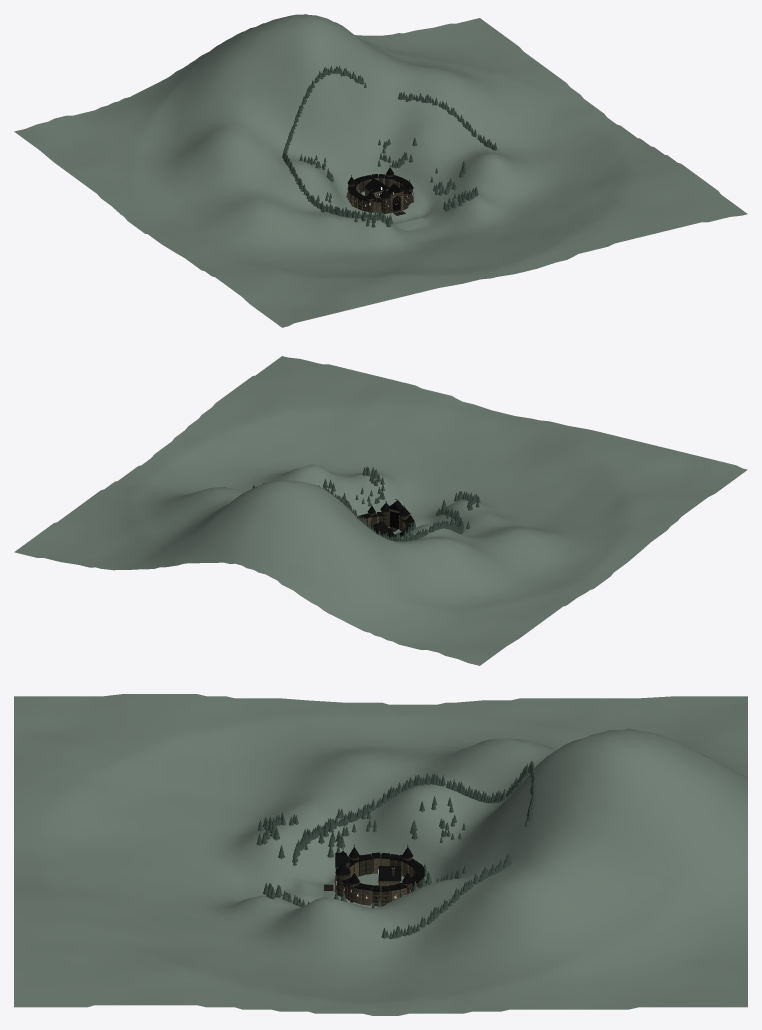
Rendered from first-light-citadel.desktop.glb.
3 views of the same model, one above another, from view 1: azimuth 30°, elevation 25°; view 2: azimuth 150°, elevation 25°; view 3: azimuth 270°, elevation 25° (orthographic). The views are drawn at different scales.
Parts seen in each view (by area): view 1: Country ground, Country pineMesh, Gate gable left roof edge, Gate buttress setback cap L, VS01_Threshold_ROOT; view 2: Country ground, Country pineMesh, Gate gable left roof edge; view 3: Country ground, Country pineMesh, Gate gable left roof edge, Gate buttress setback cap L, Gate upper beam, VS01_Threshold_ROOT.
Part boxes in pixels (left/top/right/bottom): Country ground: left=14, top=14, right=747, bottom=327; Country pineMesh: left=282, top=65, right=497, bottom=227; Gate gable left roof edge: left=347, top=167, right=413, bottom=202; Gate buttress setback cap L: left=348, top=175, right=412, bottom=213; VS01_Threshold_ROOT: left=347, top=165, right=413, bottom=213; Country ground: left=14, top=356, right=747, bottom=665; Country pineMesh: left=252, top=466, right=480, bottom=541; Gate gable left roof edge: left=357, top=500, right=414, bottom=537; Country ground: left=14, top=694, right=747, bottom=1015; Country pineMesh: left=256, top=761, right=536, bottom=939; Gate gable left roof edge: left=335, top=847, right=424, bottom=891; Gate buttress setback cap L: left=336, top=857, right=420, bottom=906; Gate upper beam: left=336, top=855, right=423, bottom=905; VS01_Threshold_ROOT: left=333, top=844, right=424, bottom=906.
Size of the model in its own units: 260 by 63.76 by 259.
Materials: 14 (8 with a texture image).
